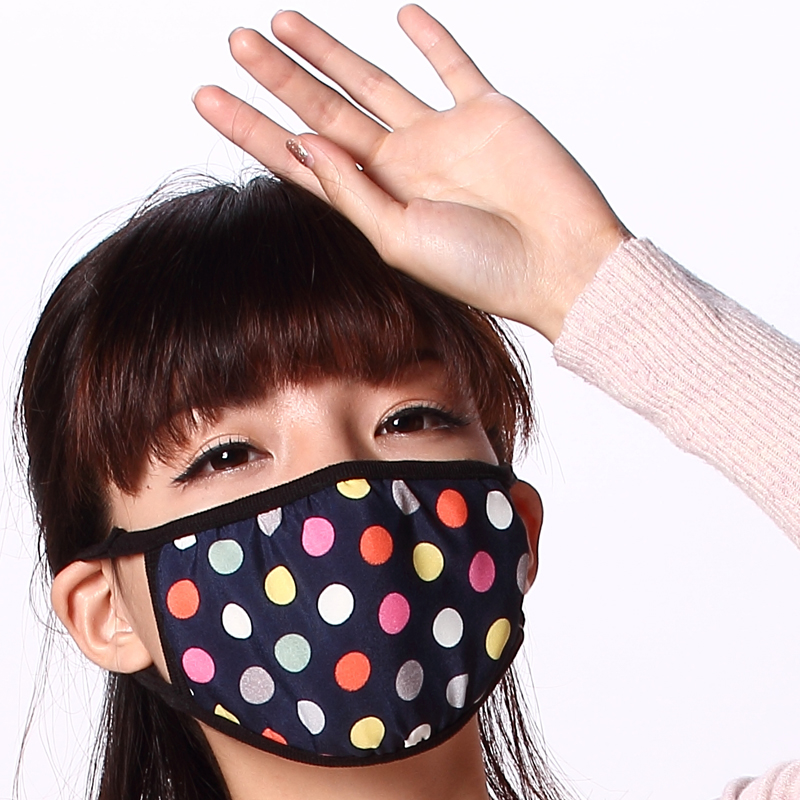face_mask: (124, 257, 514, 757)
